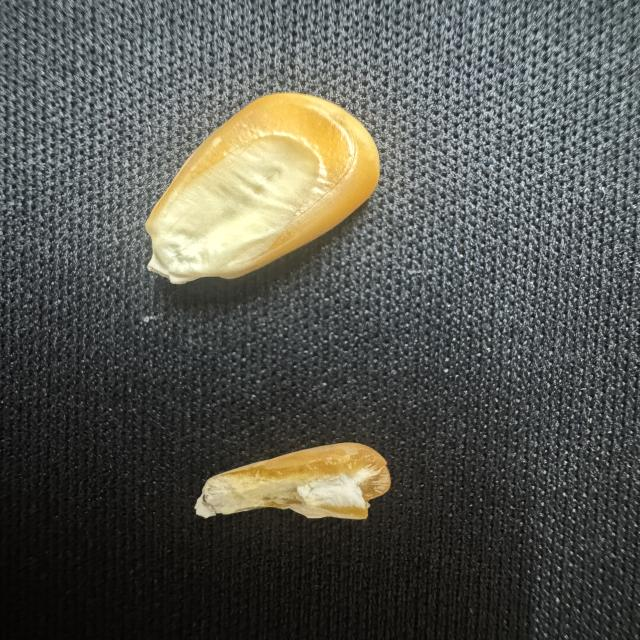Bad-Seed: (191, 438, 393, 532)
Good-Seed: (138, 86, 387, 288)
